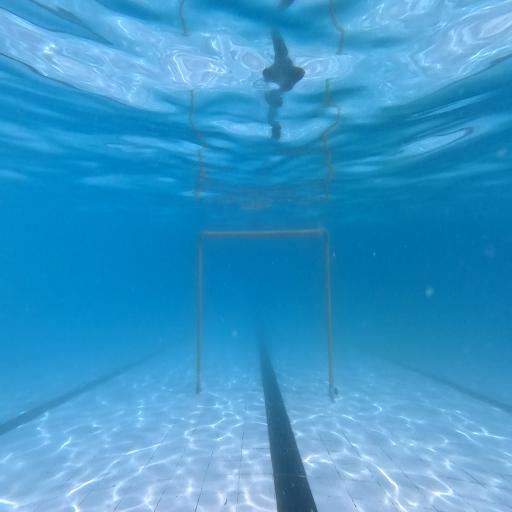gate: (196, 229, 338, 396)
